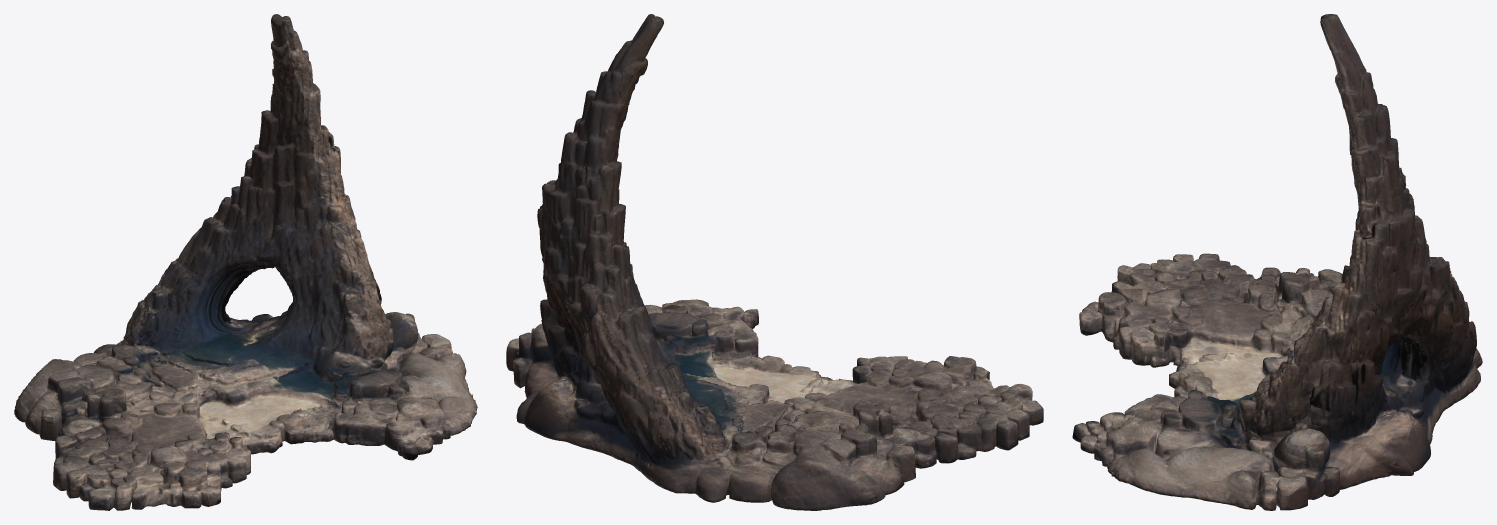
File: horn_arch.glb
3 renders of one model, left to right at view 1: azimuth 30°, elevation 25°; view 2: azimuth 150°, elevation 25°; view 3: azimuth 270°, elevation 25°, orthographic. The views are drawn at different scales.
Parts seen in each view (by area): view 1: horn_arch; view 2: horn_arch; view 3: horn_arch.
Part boxes in pixels (left/top/right/bottom): horn_arch: left=14, top=14, right=477, bottom=510; horn_arch: left=506, top=14, right=1043, bottom=510; horn_arch: left=1072, top=14, right=1482, bottom=510.
Size of the model in its own units: 1.98 by 1.61 by 1.45.
1 material, 1 textured.
